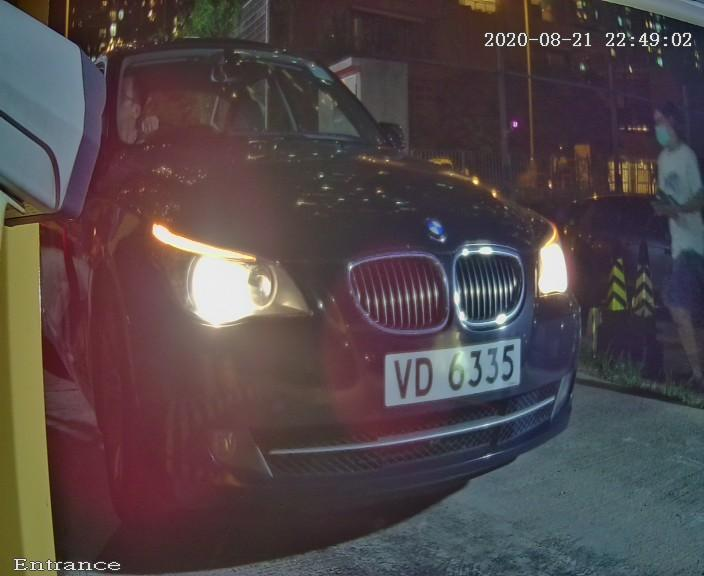Car: (1, 29, 645, 523)
License Plate: (361, 320, 540, 422)
